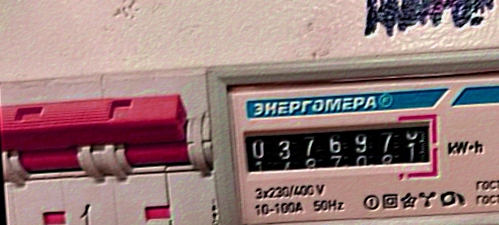0: (250, 138, 267, 160)
1: (406, 141, 419, 163)
3: (277, 138, 292, 162)
6: (328, 133, 343, 154)
7: (302, 133, 317, 158), (379, 130, 394, 154)
9: (353, 132, 368, 155)
screen: (237, 112, 444, 194)
